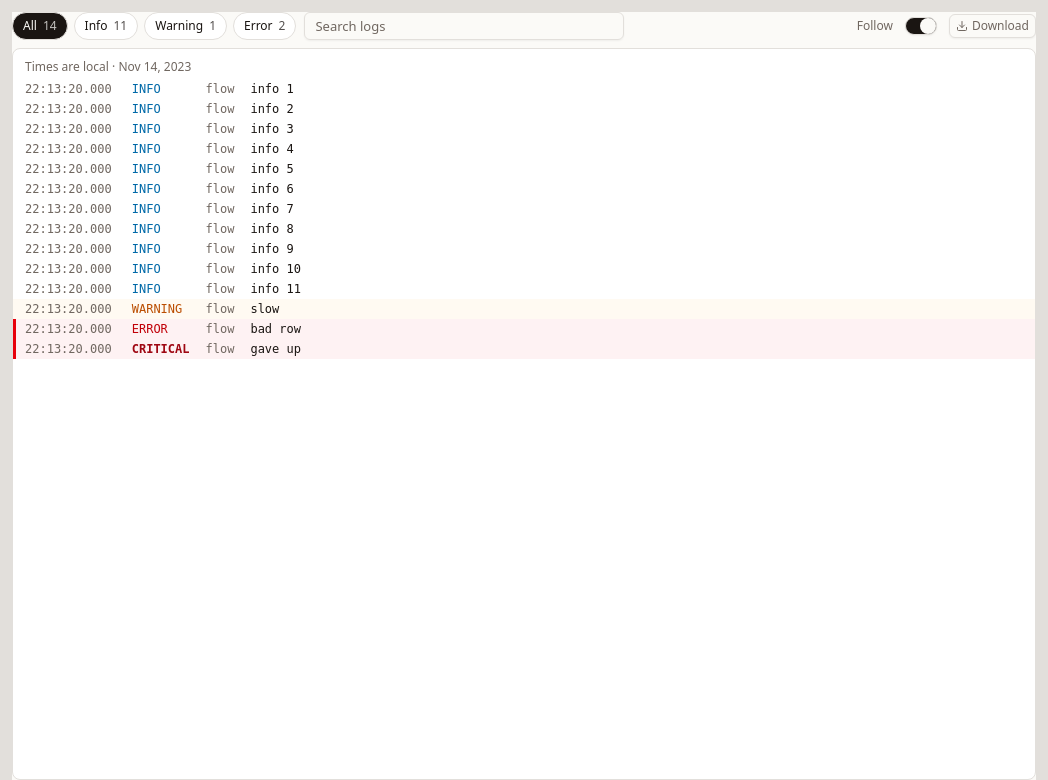
Test: level chips count each level and filter to one
Check: the text "gave up" is shown, box x1=242 y1=339 x2=1035 y2=359
Click the button "Error 2": (265, 26) x1=233 y1=12 x2=296 y2=40
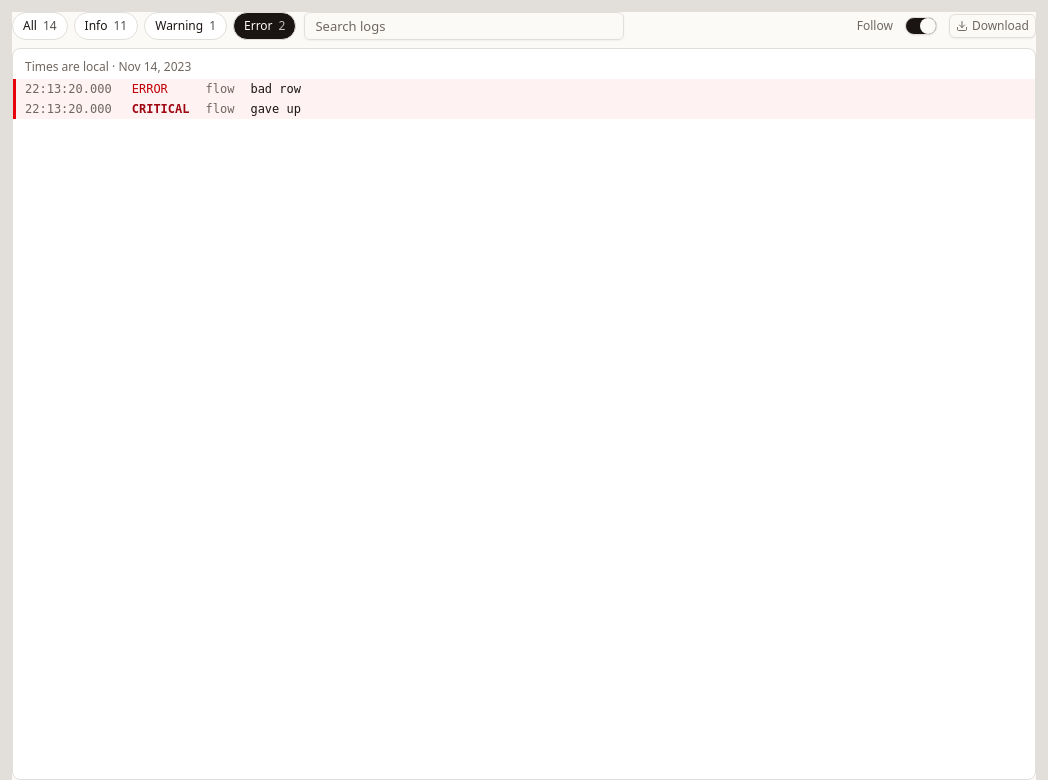
Check: the text "bad row" is shown, box x1=242 y1=79 x2=1035 y2=99
Check: the text "slow" is gone
